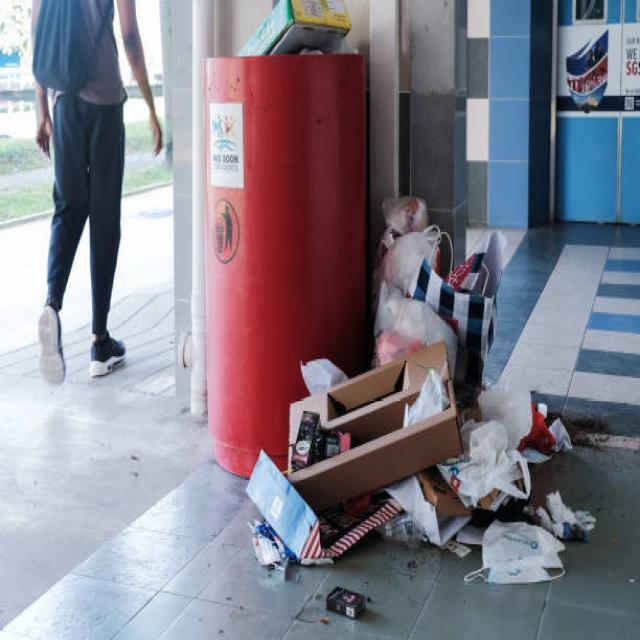bin_full: (209, 0, 366, 449)
bulk_waste: (288, 343, 461, 482)
normal_waste: (404, 387, 576, 550), (380, 198, 490, 376), (247, 468, 391, 558), (482, 517, 581, 581), (242, 0, 358, 48)
